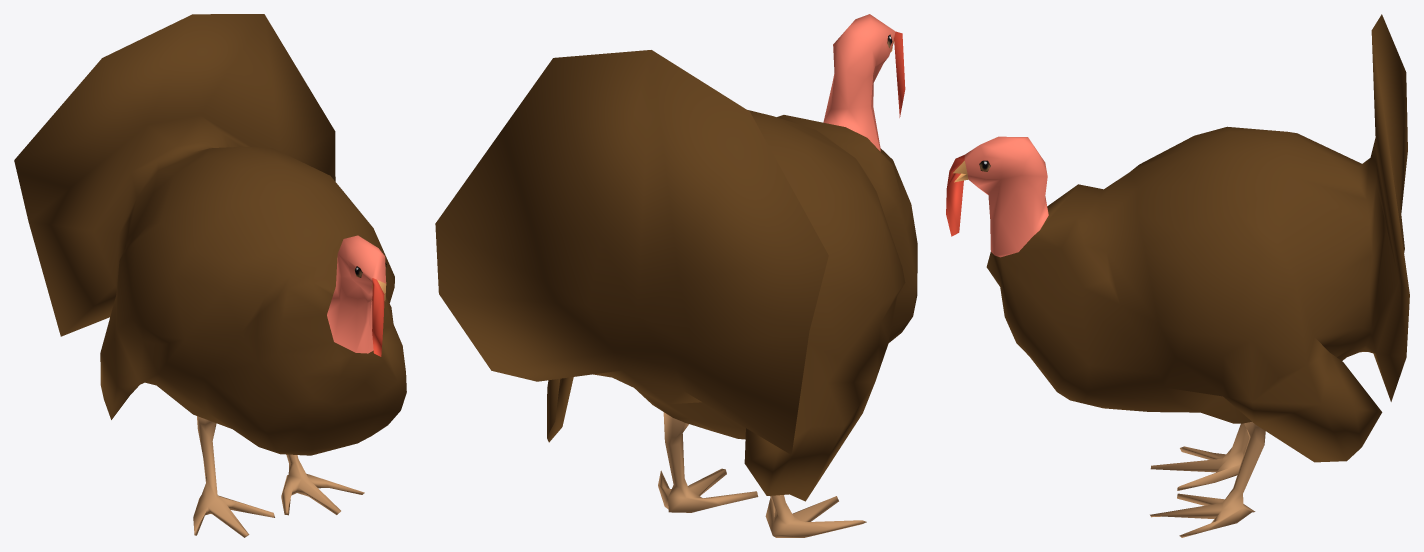
Rendered from TurkeyMale.glb.
The picture shows the model from 3 angles, left to right: view 1: azimuth 30°, elevation 25°; view 2: azimuth 150°, elevation 25°; view 3: azimuth 270°, elevation 25°; orthographic projection. The views are drawn at different scales.
Visible parts, largest first — view 1: TurkeyMale; view 2: TurkeyMale; view 3: TurkeyMale.
Part boxes in pixels (bbox=[...]): TurkeyMale: bbox=[14, 14, 406, 537]; TurkeyMale: bbox=[435, 14, 917, 537]; TurkeyMale: bbox=[946, 14, 1409, 537].
Size of what is drawn, in the model's own units: 0.8395 by 1.08 by 0.9778.
Materials: 1 (1 with a texture image).
